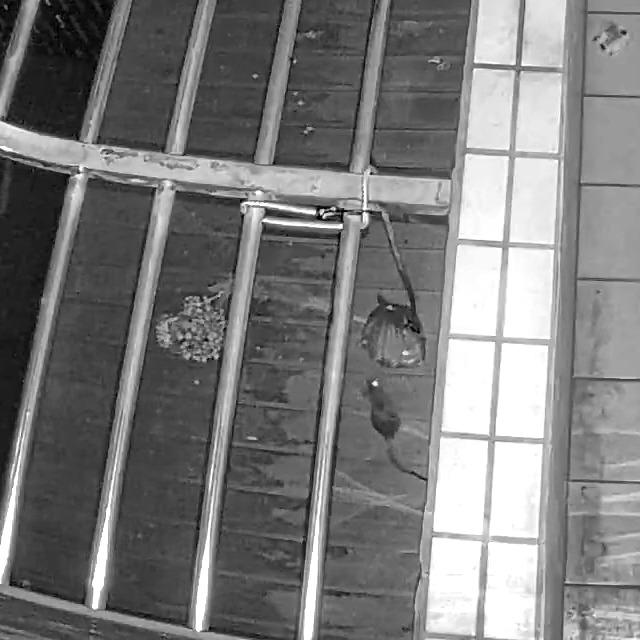rat: (360, 376, 427, 484)
